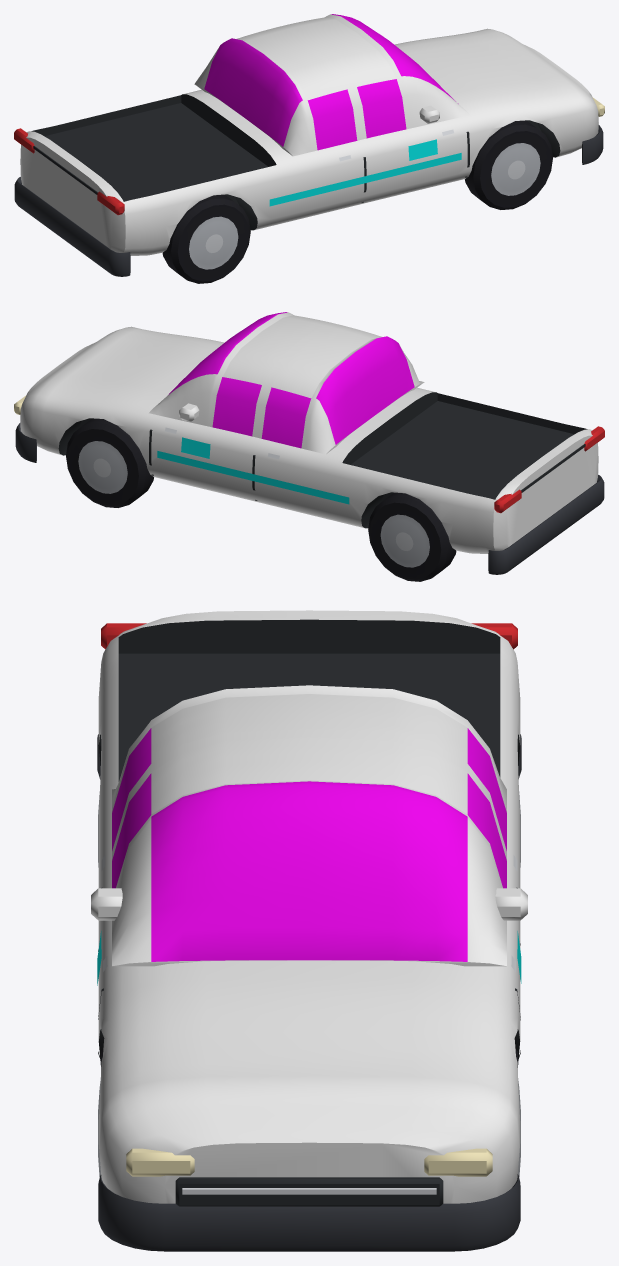
Rendered from pickup.glb.
3 views of the same model, one above another, from view 1: azimuth 30°, elevation 25°; view 2: azimuth 150°, elevation 25°; view 3: azimuth 270°, elevation 25° (orthographic). The views are drawn at different scales.
Visible parts, largest first — view 1: LOD0; view 2: LOD0; view 3: LOD0.
Part boxes in pixels (x1,y1,x2,y2): LOD0: (14, 14, 604, 283); LOD0: (14, 312, 604, 581); LOD0: (91, 610, 527, 1251).
Size of what is drawn, in the model's own units: 5.27 by 1.69 by 1.99.
